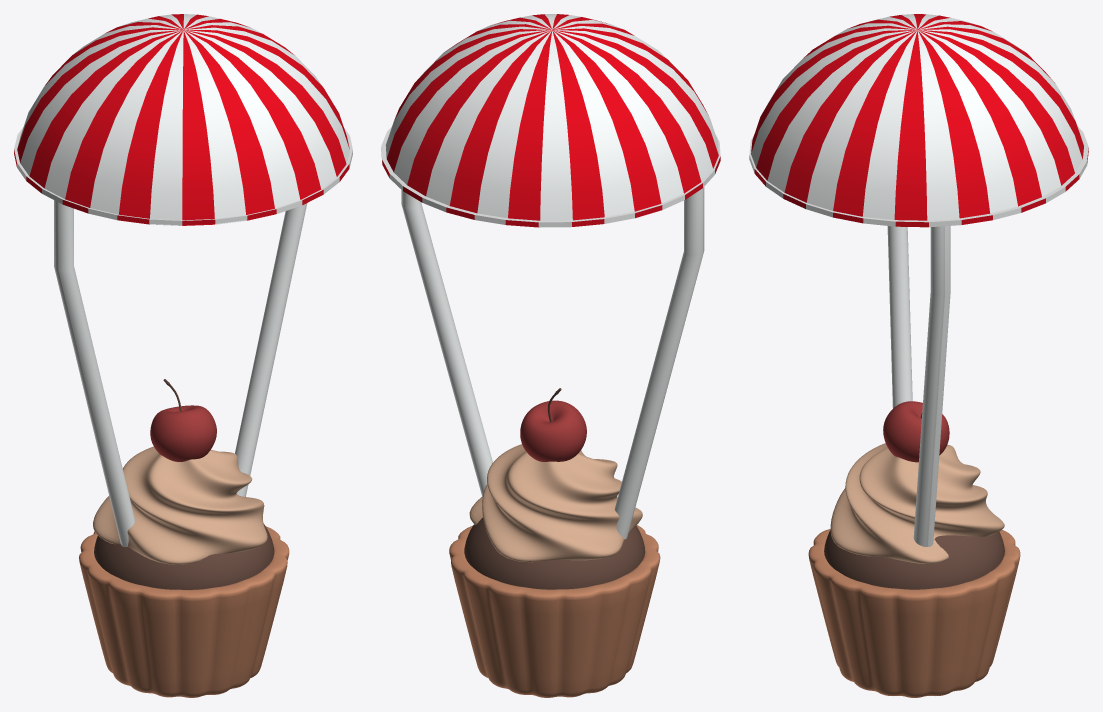
The model's file is Parachute+cpucake.fbx.
The picture shows the model from 3 angles, left to right: view 1: azimuth 30°, elevation 25°; view 2: azimuth 150°, elevation 25°; view 3: azimuth 270°, elevation 25°; orthographic projection.
Visible parts, largest first — view 1: 0016, Sphère.002, Sphère.001, Sphère.003, Sphère; view 2: 0016, Sphère.001, Sphère.002, Sphère.003, Sphère; view 3: 0016, Sphère.002, Sphère.001, Sphère.003, Sphère.
Part boxes in pixels (box(x1,y1,x2,y2)): 0016: box(79, 379, 289, 697); Sphère.002: box(14, 14, 349, 225); Sphère.001: box(17, 14, 352, 225); Sphère.003: box(54, 200, 307, 546); Sphère: box(14, 127, 352, 546); 0016: box(449, 388, 660, 697); Sphère.001: box(381, 14, 718, 227); Sphère.002: box(382, 14, 720, 227); Sphère.003: box(401, 188, 703, 539); Sphère: box(381, 126, 720, 538); 0016: box(808, 401, 1020, 697); Sphère.002: box(751, 14, 1088, 227); Sphère.001: box(749, 14, 1087, 227); Sphère.003: box(887, 226, 950, 546); Sphère: box(749, 125, 1088, 546).
Bounding box in the file's own units: 271 × 564 × 271.
